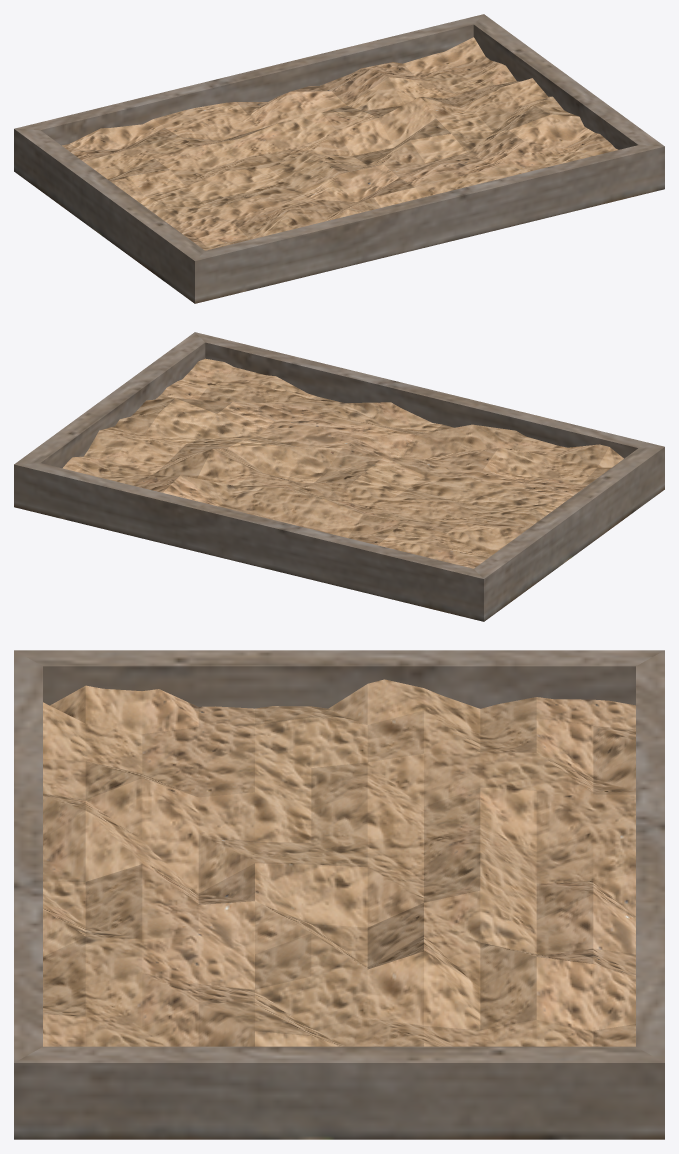
The model's file is Sandpit.fbx.
3 renders of one model, top to bottom at view 1: azimuth 30°, elevation 25°; view 2: azimuth 150°, elevation 25°; view 3: azimuth 270°, elevation 25°, orthographic. The views are drawn at different scales.
Visible parts, largest first — view 1: Plane, Cube; view 2: Plane, Cube; view 3: Plane, Cube.
Boxes of the visible parts, x1=… form: Plane: x1=62, y1=37, x2=618, y2=250; Cube: x1=14, y1=14, x2=664, y2=303; Plane: x1=62, y1=358, x2=623, y2=568; Cube: x1=14, y1=332, x2=664, y2=621; Plane: x1=43, y1=679, x2=635, y2=1046; Cube: x1=14, y1=650, x2=664, y2=1139.
Bounding box in the file's own units: 922 × 80.11 × 615.
Materials: 2 (2 with a texture image).
